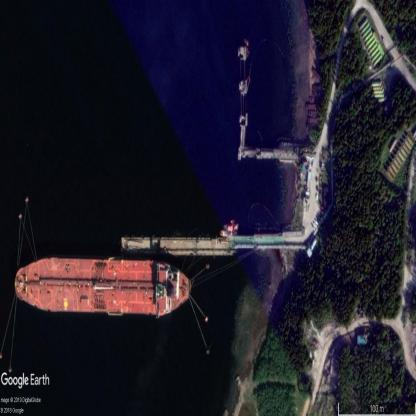ship: (14, 258, 192, 315), (223, 221, 238, 232), (219, 230, 237, 237)
